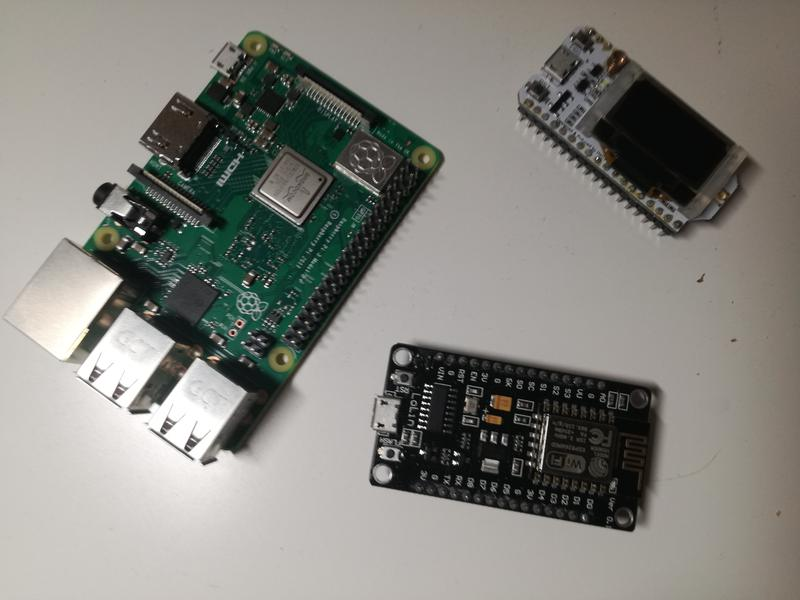ESP8266: (358, 336, 656, 537)
Heltec_ESP32_Lora: (519, 21, 751, 247)
Raspberry_Pi_3: (4, 29, 449, 467)
